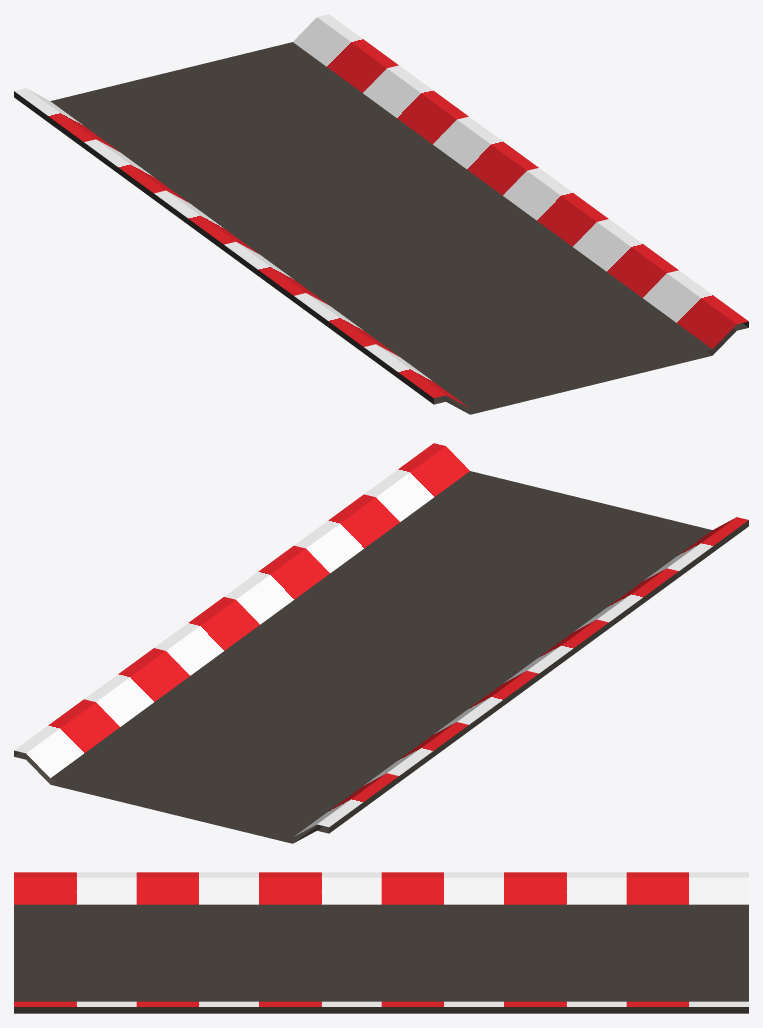
Rendered from streight_road.fbx.
The picture shows the model from 3 angles, top to bottom: view 1: azimuth 30°, elevation 25°; view 2: azimuth 150°, elevation 25°; view 3: azimuth 270°, elevation 25°; orthographic projection. The views are drawn at different scales.
Visible parts, largest first — view 1: Road_Streigt; view 2: Road_Streigt; view 3: Road_Streigt.
Part boxes in pixels (x1,y1,x2,y2): Road_Streigt: (14, 14, 748, 414); Road_Streigt: (14, 443, 748, 843); Road_Streigt: (14, 872, 748, 1013).
Size of the model in its own units: 520 by 40 by 1200.
